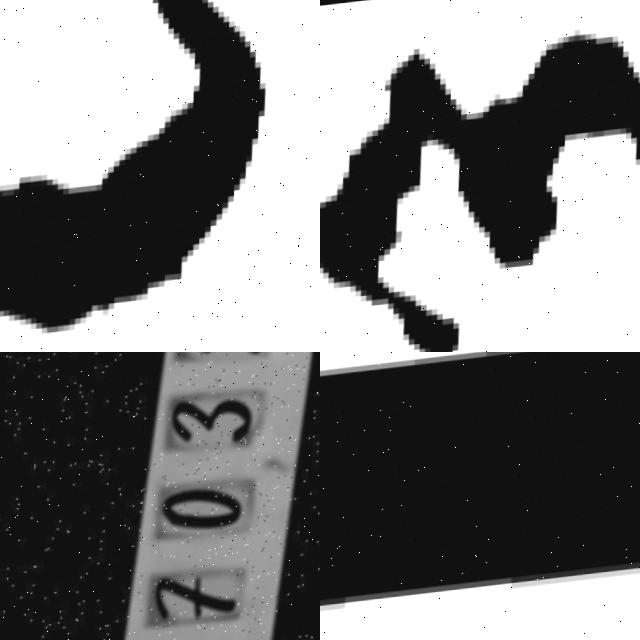0: (154, 477, 256, 554)
2: (171, 352, 275, 377)
3: (320, 0, 640, 352), (160, 391, 265, 467)
7: (145, 565, 252, 640)
J: (320, 352, 640, 640)
